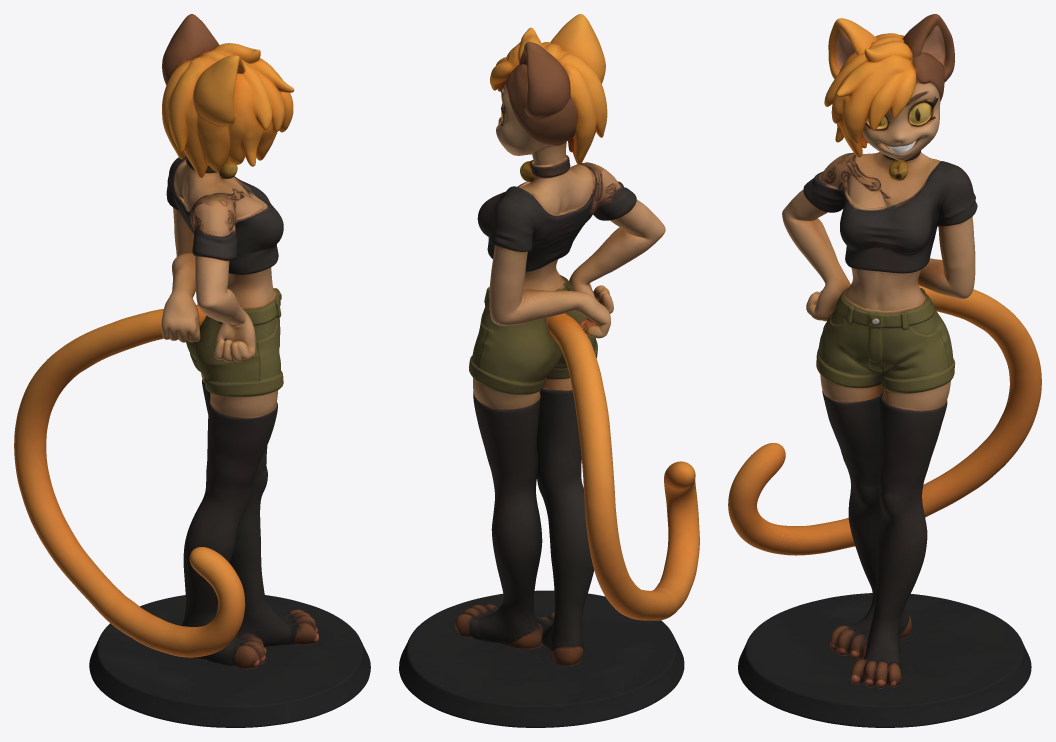
The model's file is compress_mfoeqzg6bqkhibkb.glb.
3 renders of one model, left to right at view 1: azimuth 30°, elevation 25°; view 2: azimuth 150°, elevation 25°; view 3: azimuth 270°, elevation 25°, orthographic.
Parts seen in each view (by area): view 1: tripo_node_278761b8-b3a9-4121-b8cb-00069e154304; view 2: tripo_node_278761b8-b3a9-4121-b8cb-00069e154304; view 3: tripo_node_278761b8-b3a9-4121-b8cb-00069e154304.
Boxes of the visible parts, x1,y1,x2,y2 form: tripo_node_278761b8-b3a9-4121-b8cb-00069e154304: (14,14,370,727); tripo_node_278761b8-b3a9-4121-b8cb-00069e154304: (399,14,699,727); tripo_node_278761b8-b3a9-4121-b8cb-00069e154304: (728,14,1041,727).
Size of the model in its own units: 0.4388 by 1 by 0.439.
1 material, 1 textured.
